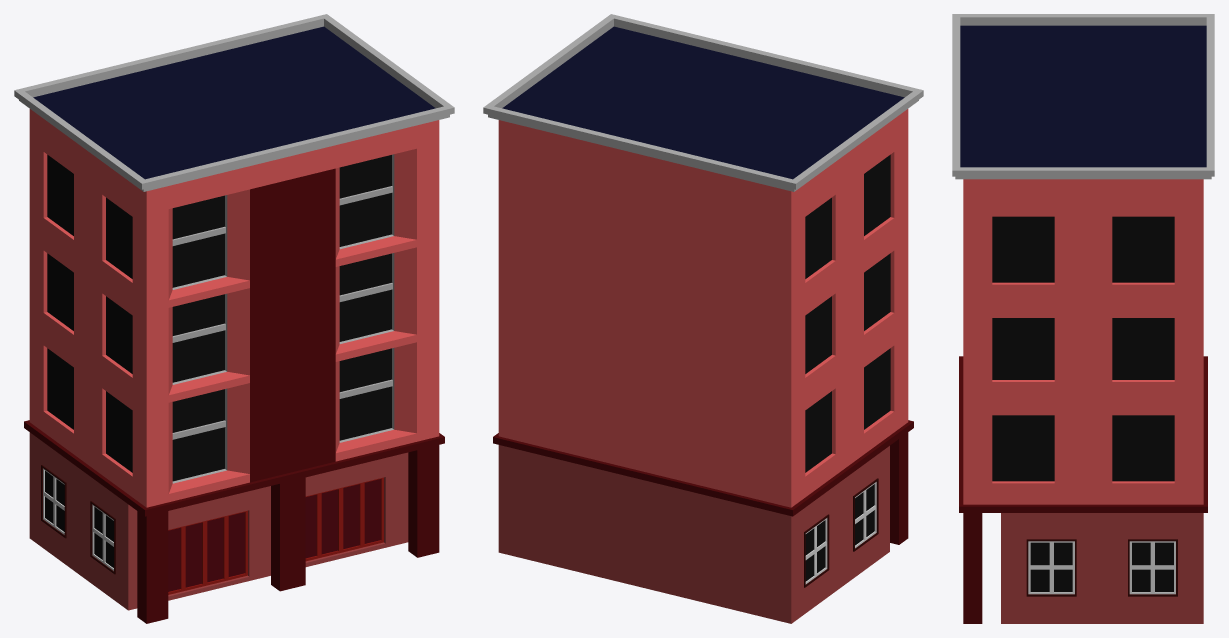
The model's file is Building_4.fbx.
3 renders of one model, left to right at view 1: azimuth 30°, elevation 25°; view 2: azimuth 150°, elevation 25°; view 3: azimuth 270°, elevation 25°, orthographic. The views are drawn at different scales.
Parts seen in each view (by area): view 1: Cube.002; view 2: Cube.002; view 3: Cube.002.
Boxes of the visible parts, <box> form: Cube.002: <box>14,14,454,623</box>; Cube.002: <box>483,14,923,623</box>; Cube.002: <box>952,14,1214,623</box>.
Size of the model in its own units: 973 by 1328 by 689.
